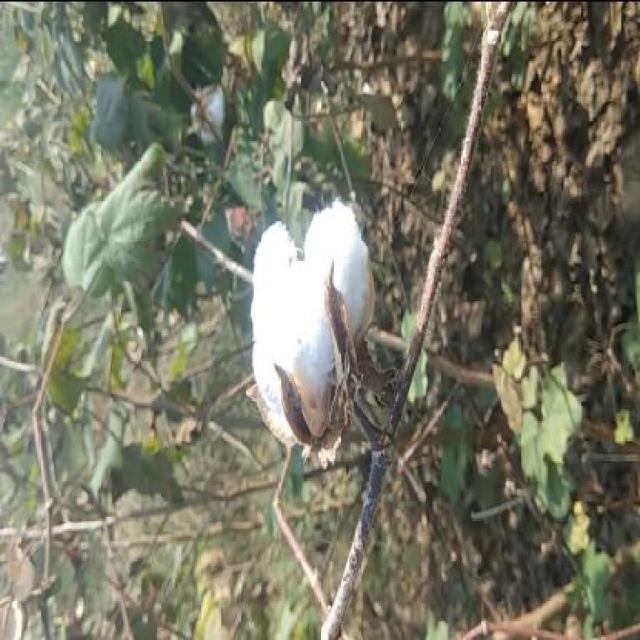cotton_ready: (224, 177, 444, 509)
